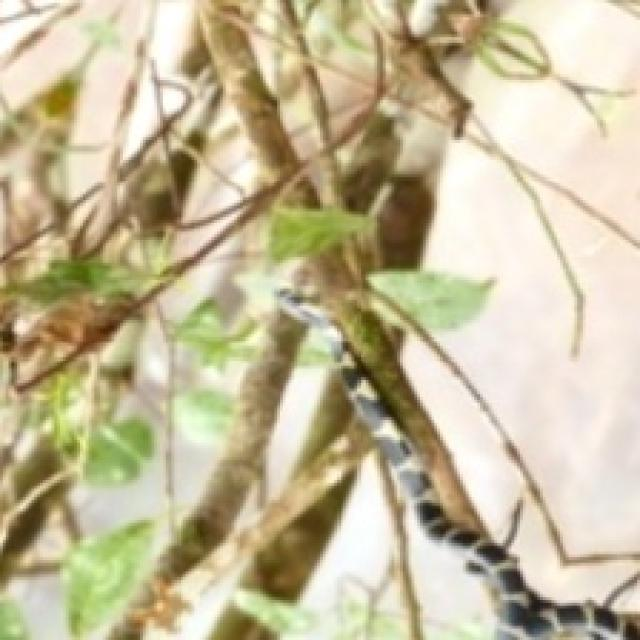king cobra: (409, 340, 517, 511), (506, 497, 531, 531)
